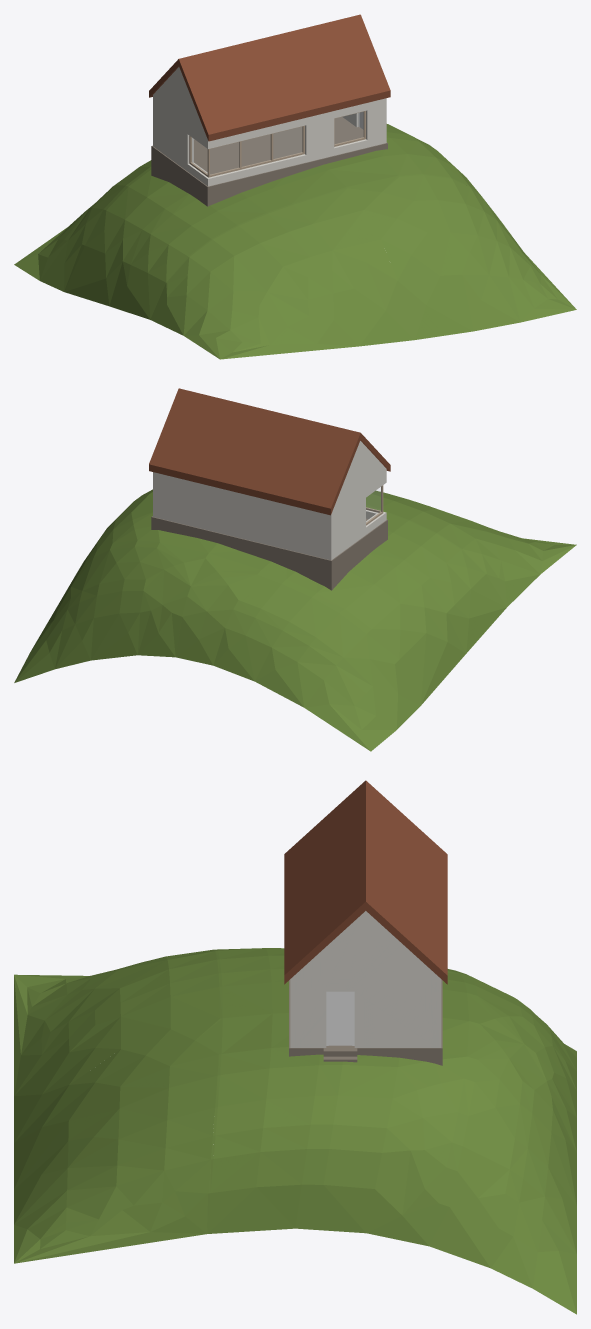
The picture shows the model from 3 angles, top to bottom: view 1: azimuth 30°, elevation 25°; view 2: azimuth 150°, elevation 25°; view 3: azimuth 270°, elevation 25°; orthographic projection. The views are drawn at different scales.
Visible parts, largest first — view 1: 3bqf5ZY_nDpfb1hfmOkxFk, 2KoBar2pfAWBou8q$ldGHy, 2W4bl$KK1Brv_UEOkAThqU, 3g46_woBL6sugXeY5_WP6n, 1hwEPyGUD1vwPpm508N9dQ, 23dVSDsxXCPhtqOSjMZ_H9; view 2: 3bqf5ZY_nDpfb1hfmOkxFk, 3lPsczHcDCwepFiJhZqz9q, 3xUPAVO39FGgNkCUQqf4JV, 2W4bl$KK1Brv_UEOkAThqU, 1hwEPyGUD1vwPpm508N9dQ; view 3: 3bqf5ZY_nDpfb1hfmOkxFk, 3hw7qrktPAl8j6w3qKhwKm, 3lPsczHcDCwepFiJhZqz9q, 2KoBar2pfAWBou8q$ldGHy, 2W4bl$KK1Brv_UEOkAThqU, 0Tif_$wI1FwAwq$OJt24I8, 3xUPAVO39FGgNkCUQqf4JV.
Boxes of the visible parts, bbox=[...] form: 3bqf5ZY_nDpfb1hfmOkxFk: bbox=[14, 124, 576, 359]; 2KoBar2pfAWBou8q$ldGHy: bbox=[178, 14, 390, 141]; 2W4bl$KK1Brv_UEOkAThqU: bbox=[151, 117, 387, 206]; 3g46_woBL6sugXeY5_WP6n: bbox=[204, 98, 386, 186]; 1hwEPyGUD1vwPpm508N9dQ: bbox=[156, 67, 207, 183]; 23dVSDsxXCPhtqOSjMZ_H9: bbox=[274, 127, 302, 158]; 3bqf5ZY_nDpfb1hfmOkxFk: bbox=[14, 489, 576, 751]; 3lPsczHcDCwepFiJhZqz9q: bbox=[149, 388, 360, 515]; 3xUPAVO39FGgNkCUQqf4JV: bbox=[153, 472, 334, 560]; 2W4bl$KK1Brv_UEOkAThqU: bbox=[151, 516, 387, 590]; 1hwEPyGUD1vwPpm508N9dQ: bbox=[335, 441, 384, 557]; 3bqf5ZY_nDpfb1hfmOkxFk: bbox=[14, 948, 576, 1314]; 3hw7qrktPAl8j6w3qKhwKm: bbox=[295, 911, 436, 1047]; 3lPsczHcDCwepFiJhZqz9q: bbox=[366, 780, 447, 984]; 2KoBar2pfAWBou8q$ldGHy: bbox=[284, 780, 365, 984]; 2W4bl$KK1Brv_UEOkAThqU: bbox=[289, 979, 442, 1065]; 0Tif_$wI1FwAwq$OJt24I8: bbox=[326, 991, 354, 1045]; 3xUPAVO39FGgNkCUQqf4JV: bbox=[431, 971, 441, 1047].
Bounding box in the file's own units: 20 × 13.91 × 20.
